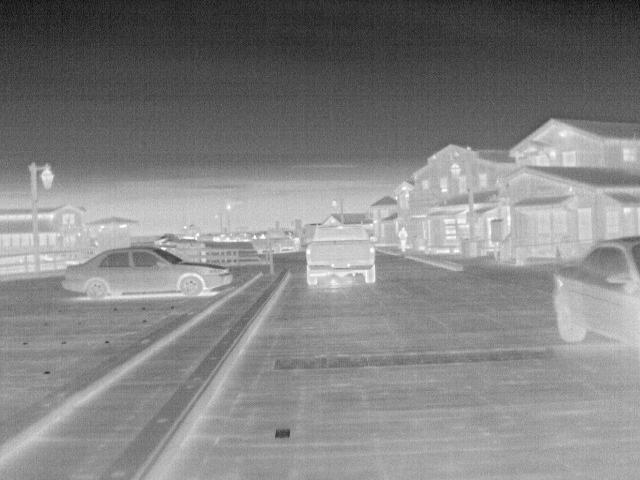car: (548, 233, 640, 345), (62, 245, 235, 303), (305, 222, 379, 288), (250, 227, 303, 255), (163, 237, 208, 250)
person: (397, 224, 410, 254)
